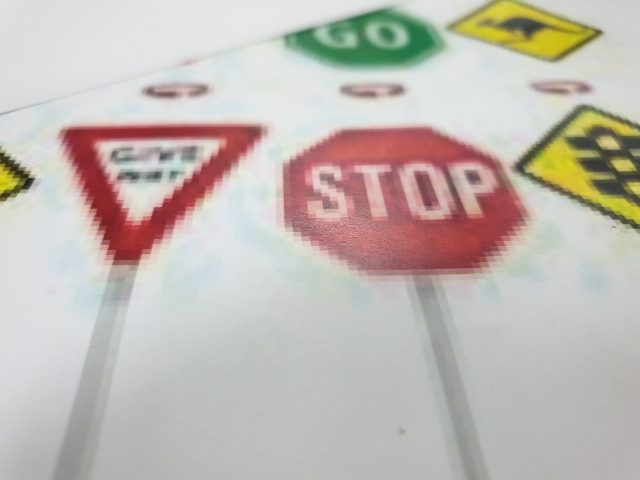giveway: (57, 128, 262, 242)
stop: (281, 129, 531, 273)
